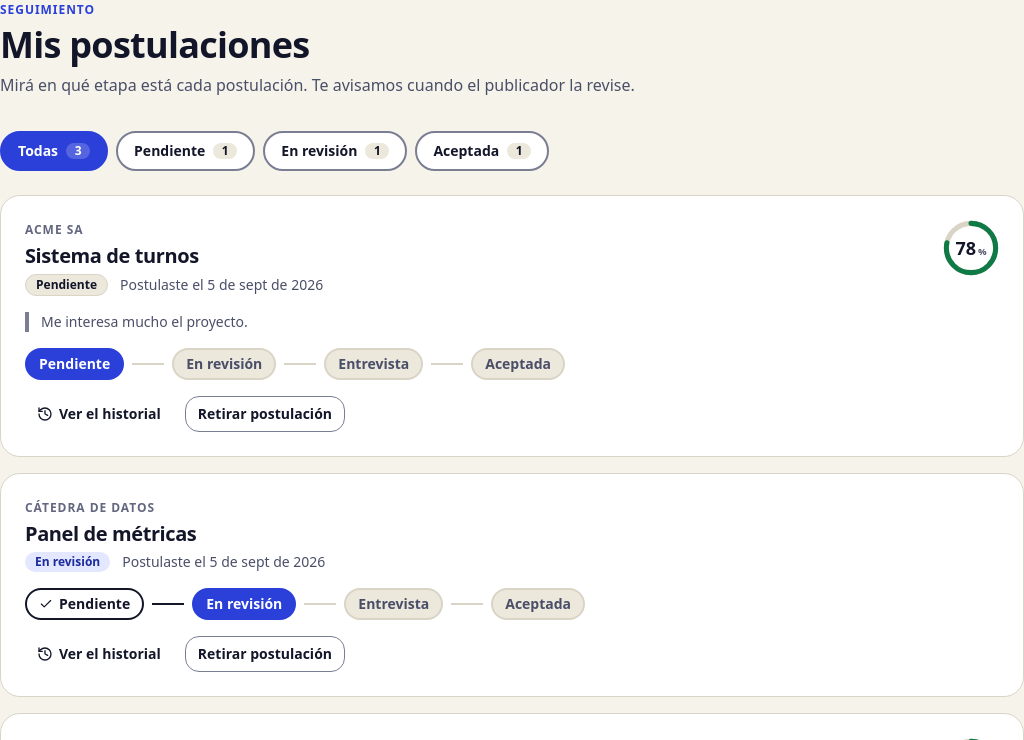
Test: PostulacionesPage › retirar una postulación › pide confirmación y, si se cancela, no cambia nada
Expected: the link "Sistema de turnos" is shown, [25,242,199,269]
What coordinates should you click on to do the following:
click the button "Retirar postulación" below "Sistema de turnos"
I would click on:
 (265, 414)
Its box is [185,396,345,432].
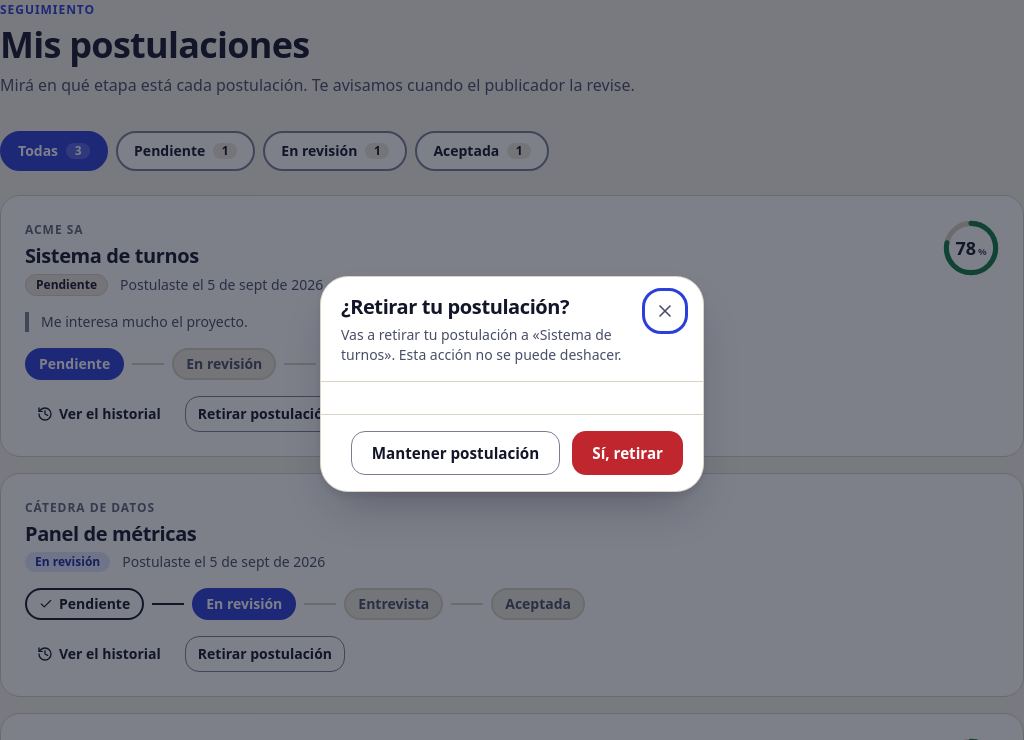
Expected: the dialog "¿Retirar tu postulación?" shows "Vas a retirar tu postulación a «Sistema de turnos». Esta acción no se puede deshacer.", [341,325,622,364]
What coordinates should you click on to do the following:
click the button "Mantener postulación"
I would click on:
 (456, 453)
Its box is [351,431,560,475].
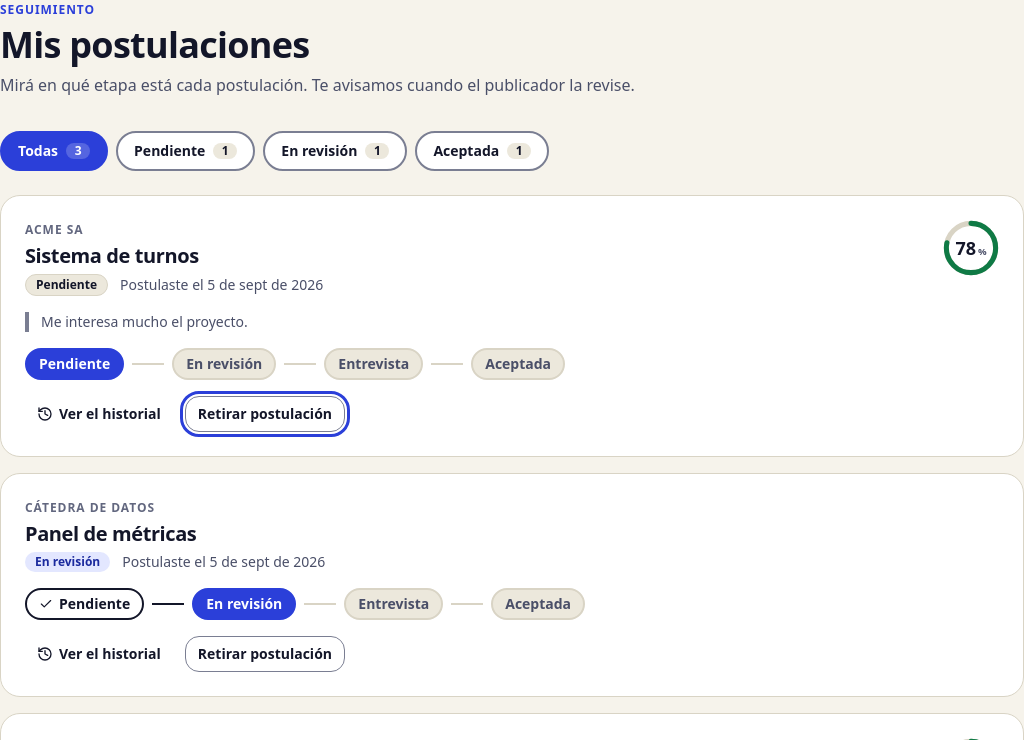
Expected: the dialog is gone
